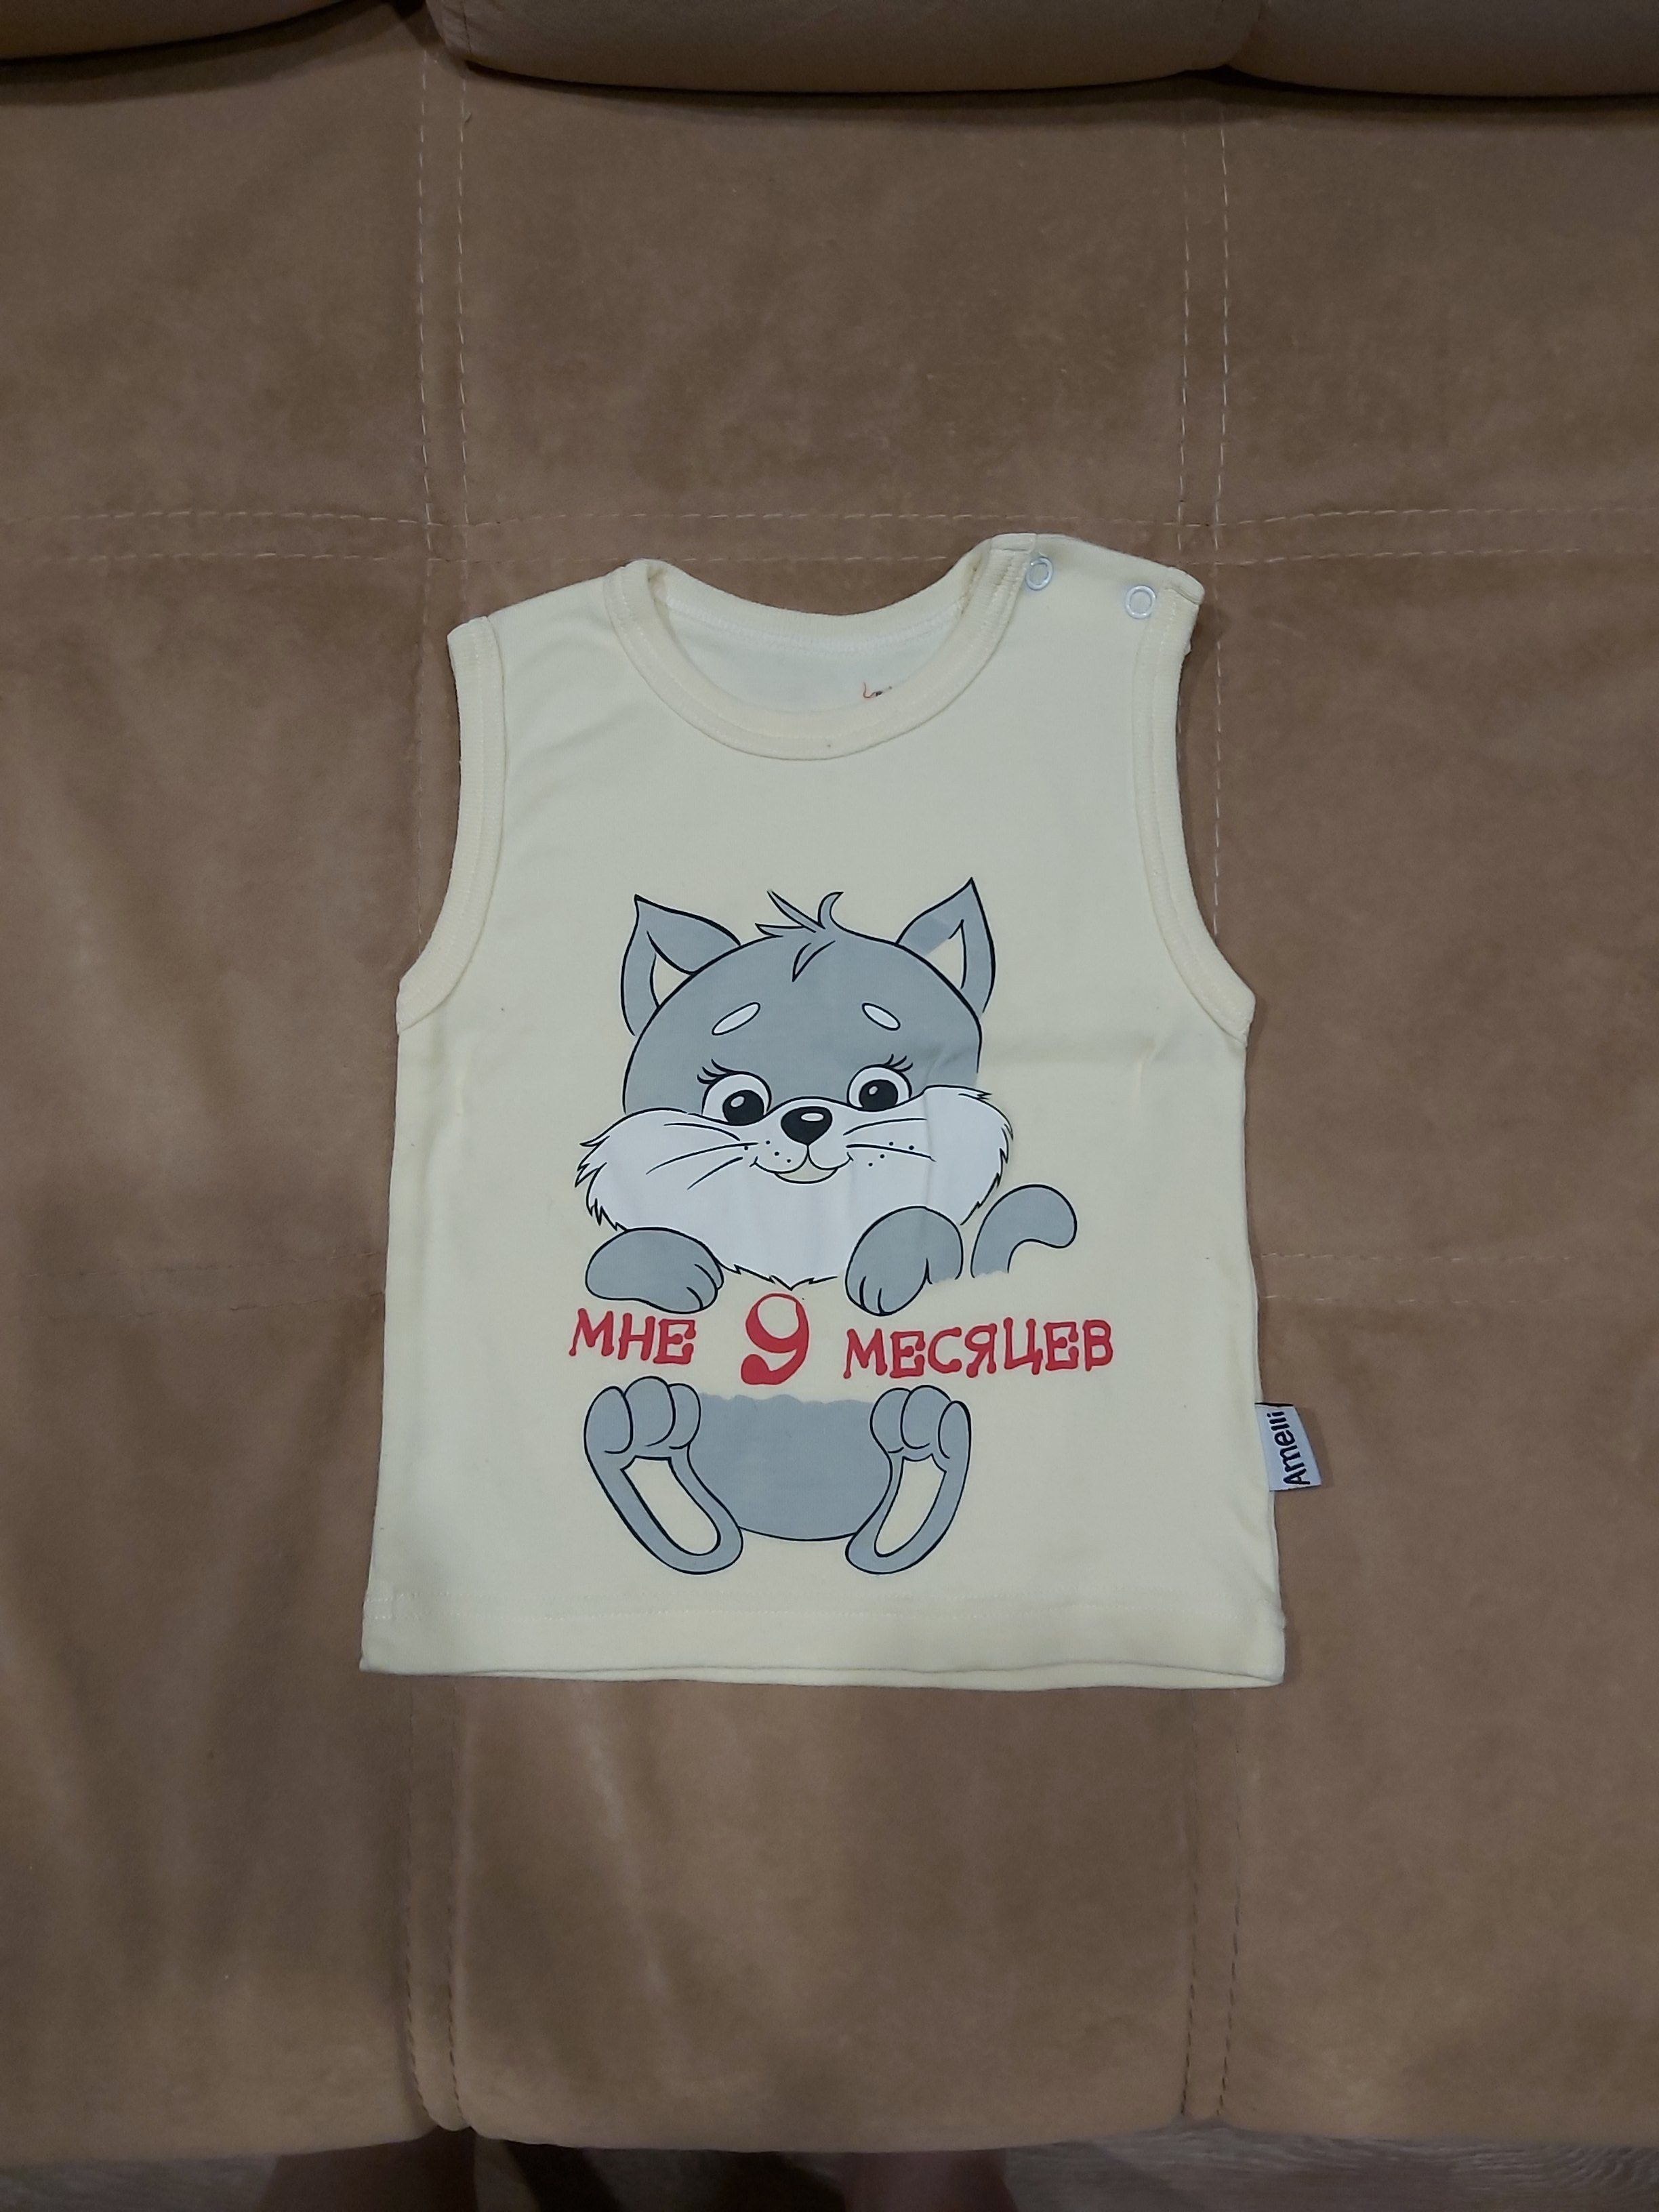clothes: (322, 516, 1335, 1707)
